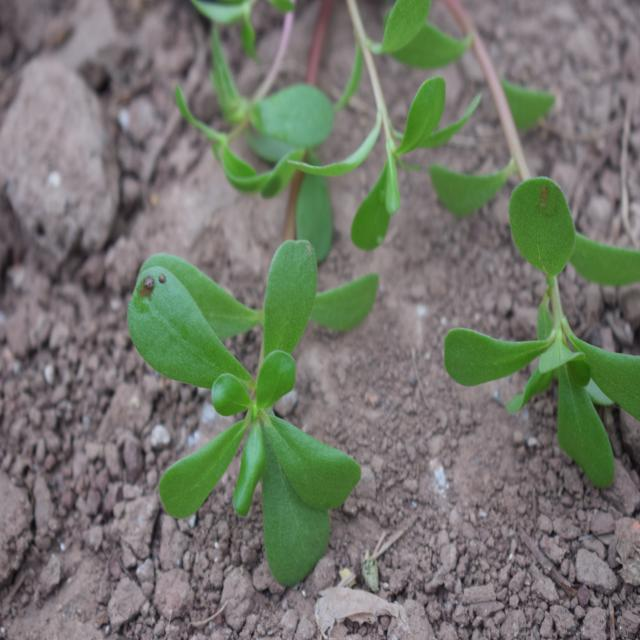purslane: (136, 24, 630, 554)
